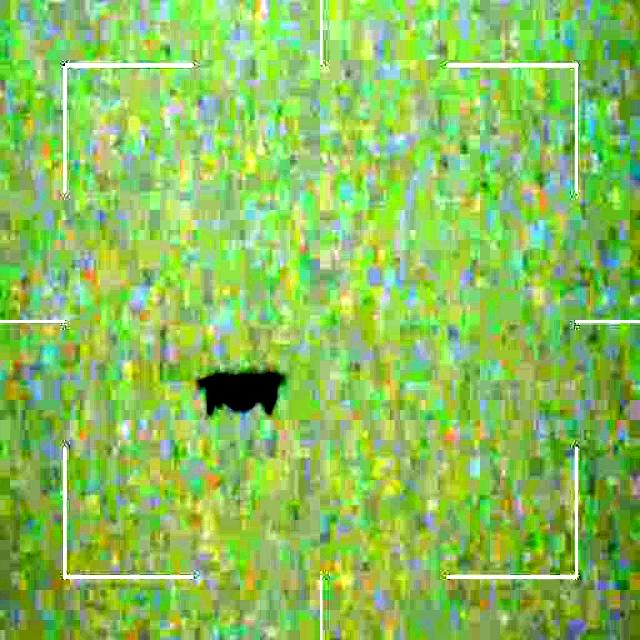bird: (198, 365, 288, 418)
